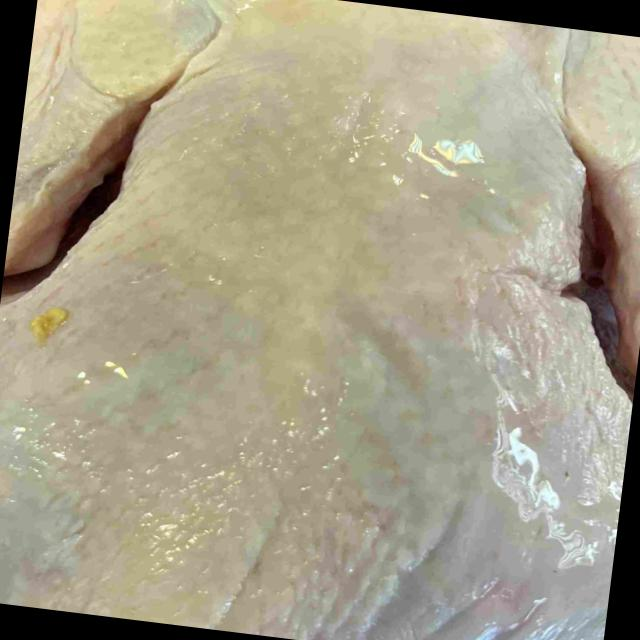back: (0, 75, 577, 640)
wing: (3, 0, 205, 278), (550, 26, 640, 387)
